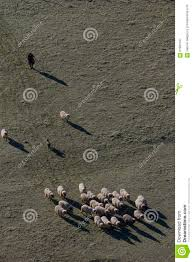sheep: (58, 107, 71, 122), (135, 196, 148, 210), (121, 214, 136, 226), (54, 205, 67, 217), (92, 216, 104, 229), (100, 216, 113, 228), (56, 183, 67, 197), (110, 197, 124, 208), (110, 216, 122, 228), (80, 204, 93, 215), (119, 188, 131, 199), (59, 200, 72, 210), (1, 126, 10, 140), (101, 189, 113, 199), (44, 185, 53, 197), (78, 181, 87, 193), (45, 135, 53, 148), (105, 204, 117, 212), (134, 212, 145, 220), (95, 206, 107, 213)
